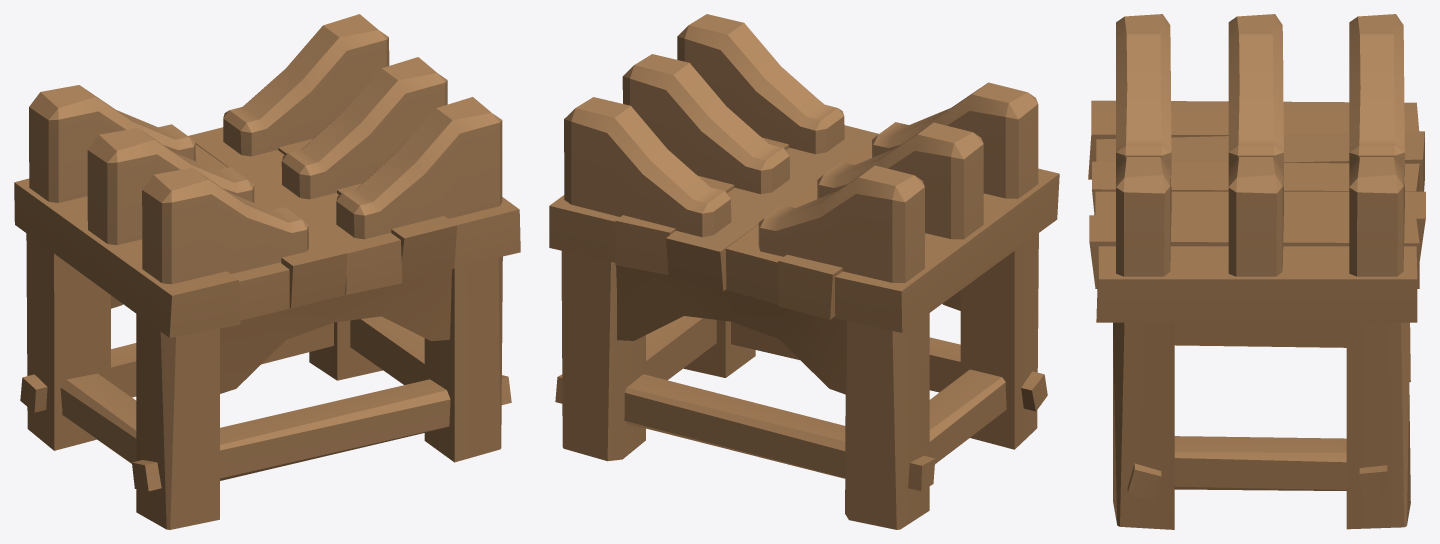
The model's file is Barrel_Prop_B.fbx.
3 renders of one model, left to right at view 1: azimuth 30°, elevation 25°; view 2: azimuth 150°, elevation 25°; view 3: azimuth 270°, elevation 25°, orthographic. The views are drawn at different scales.
Parts seen in each view (by area): view 1: Barrel_Prop_B; view 2: Barrel_Prop_B; view 3: Barrel_Prop_B.
Part boxes in pixels (left/top/right/bottom): Barrel_Prop_B: left=14, top=14, right=520, bottom=529; Barrel_Prop_B: left=549, top=14, right=1059, bottom=529; Barrel_Prop_B: left=1088, top=14, right=1425, bottom=529.
Size of the model in its own units: 103 by 91.13 by 79.8.
